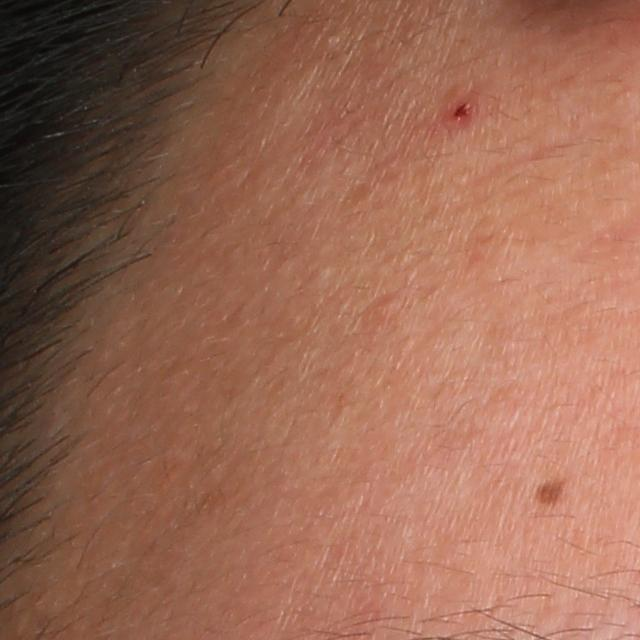nevus: (527, 475, 570, 513)
